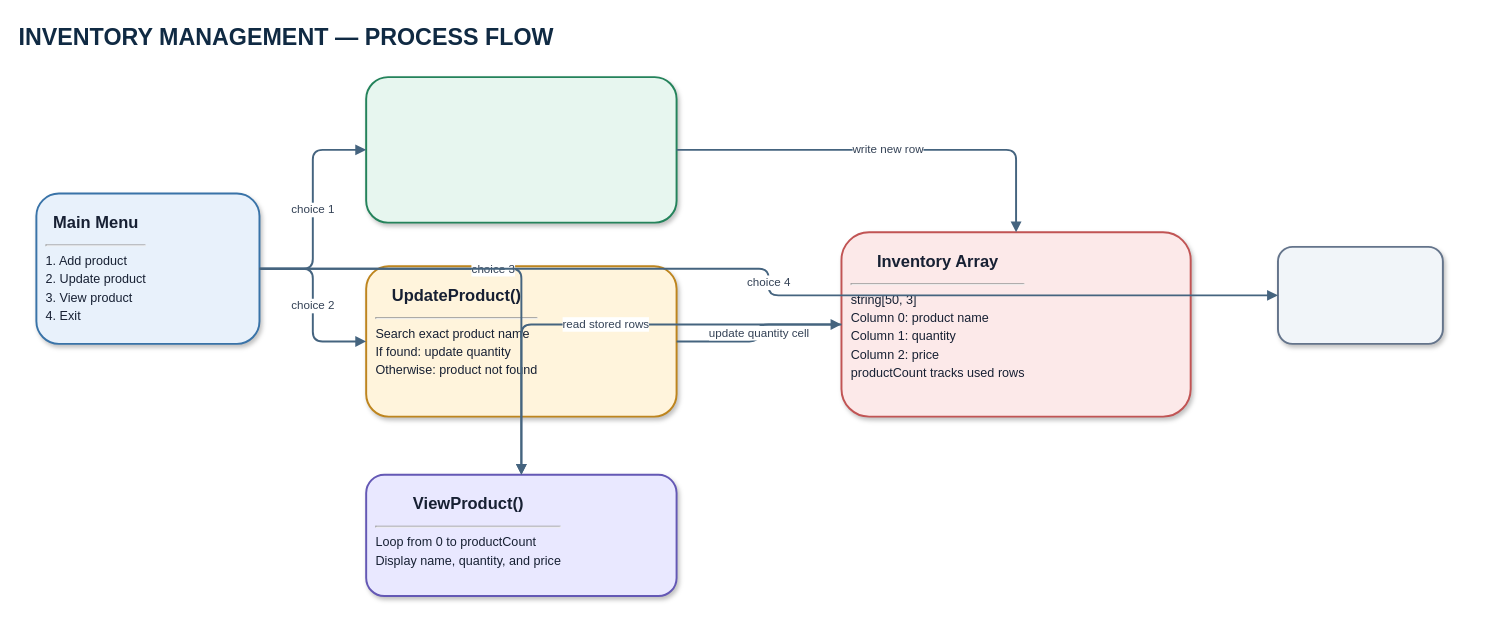
This 1488x620 diagram has some shape labels left out. Each missing label, with the centre of its shape:
Addproduct() Read name, quantity, price Write next inventory row productCount++: the point at 522,151
Exit Environment.Exit(0): the point at 1361,296
